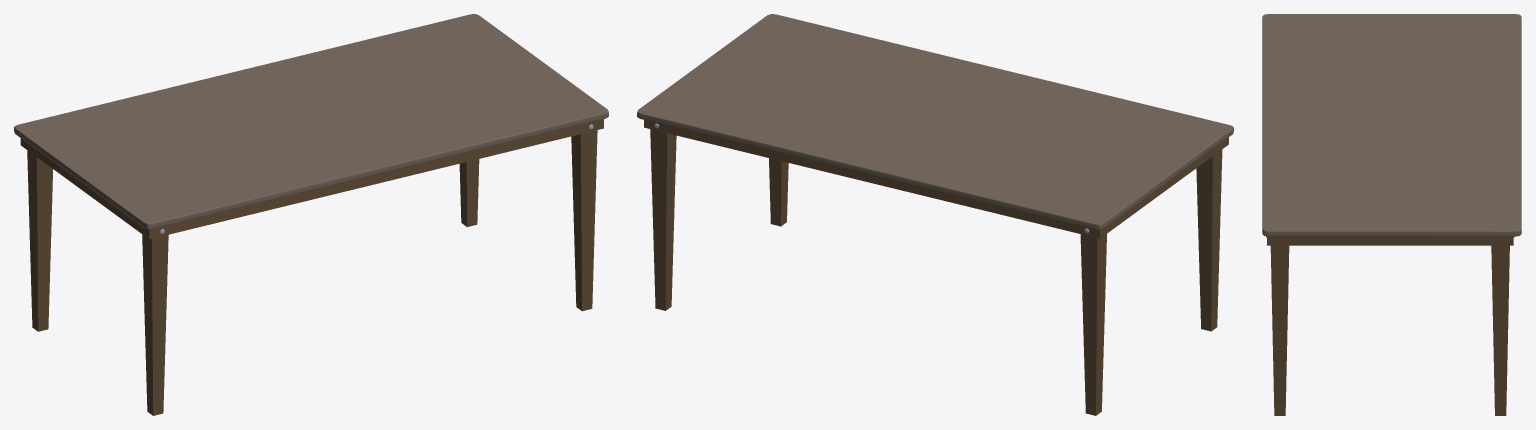
Rendered from Table.fbx.
The picture shows the model from 3 angles, left to right: view 1: azimuth 30°, elevation 25°; view 2: azimuth 150°, elevation 25°; view 3: azimuth 270°, elevation 25°; orthographic projection. The views are drawn at different scales.
Visible parts, largest first — view 1: Table; view 2: Table; view 3: Table.
Part boxes in pixels (x1=…): Table: x1=14, y1=14, x2=608, y2=415; Table: x1=637, y1=14, x2=1233, y2=415; Table: x1=1262, y1=14, x2=1521, y2=415.
Size of the model in its own units: 104 by 42.64 by 52.53.
